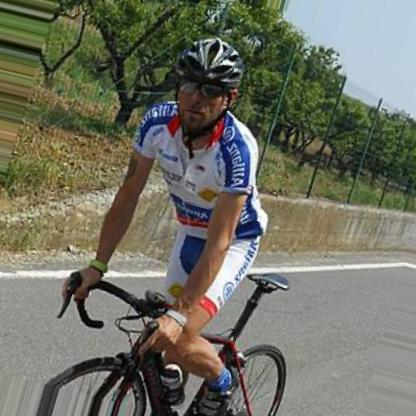with helmet: (173, 39, 244, 134)
